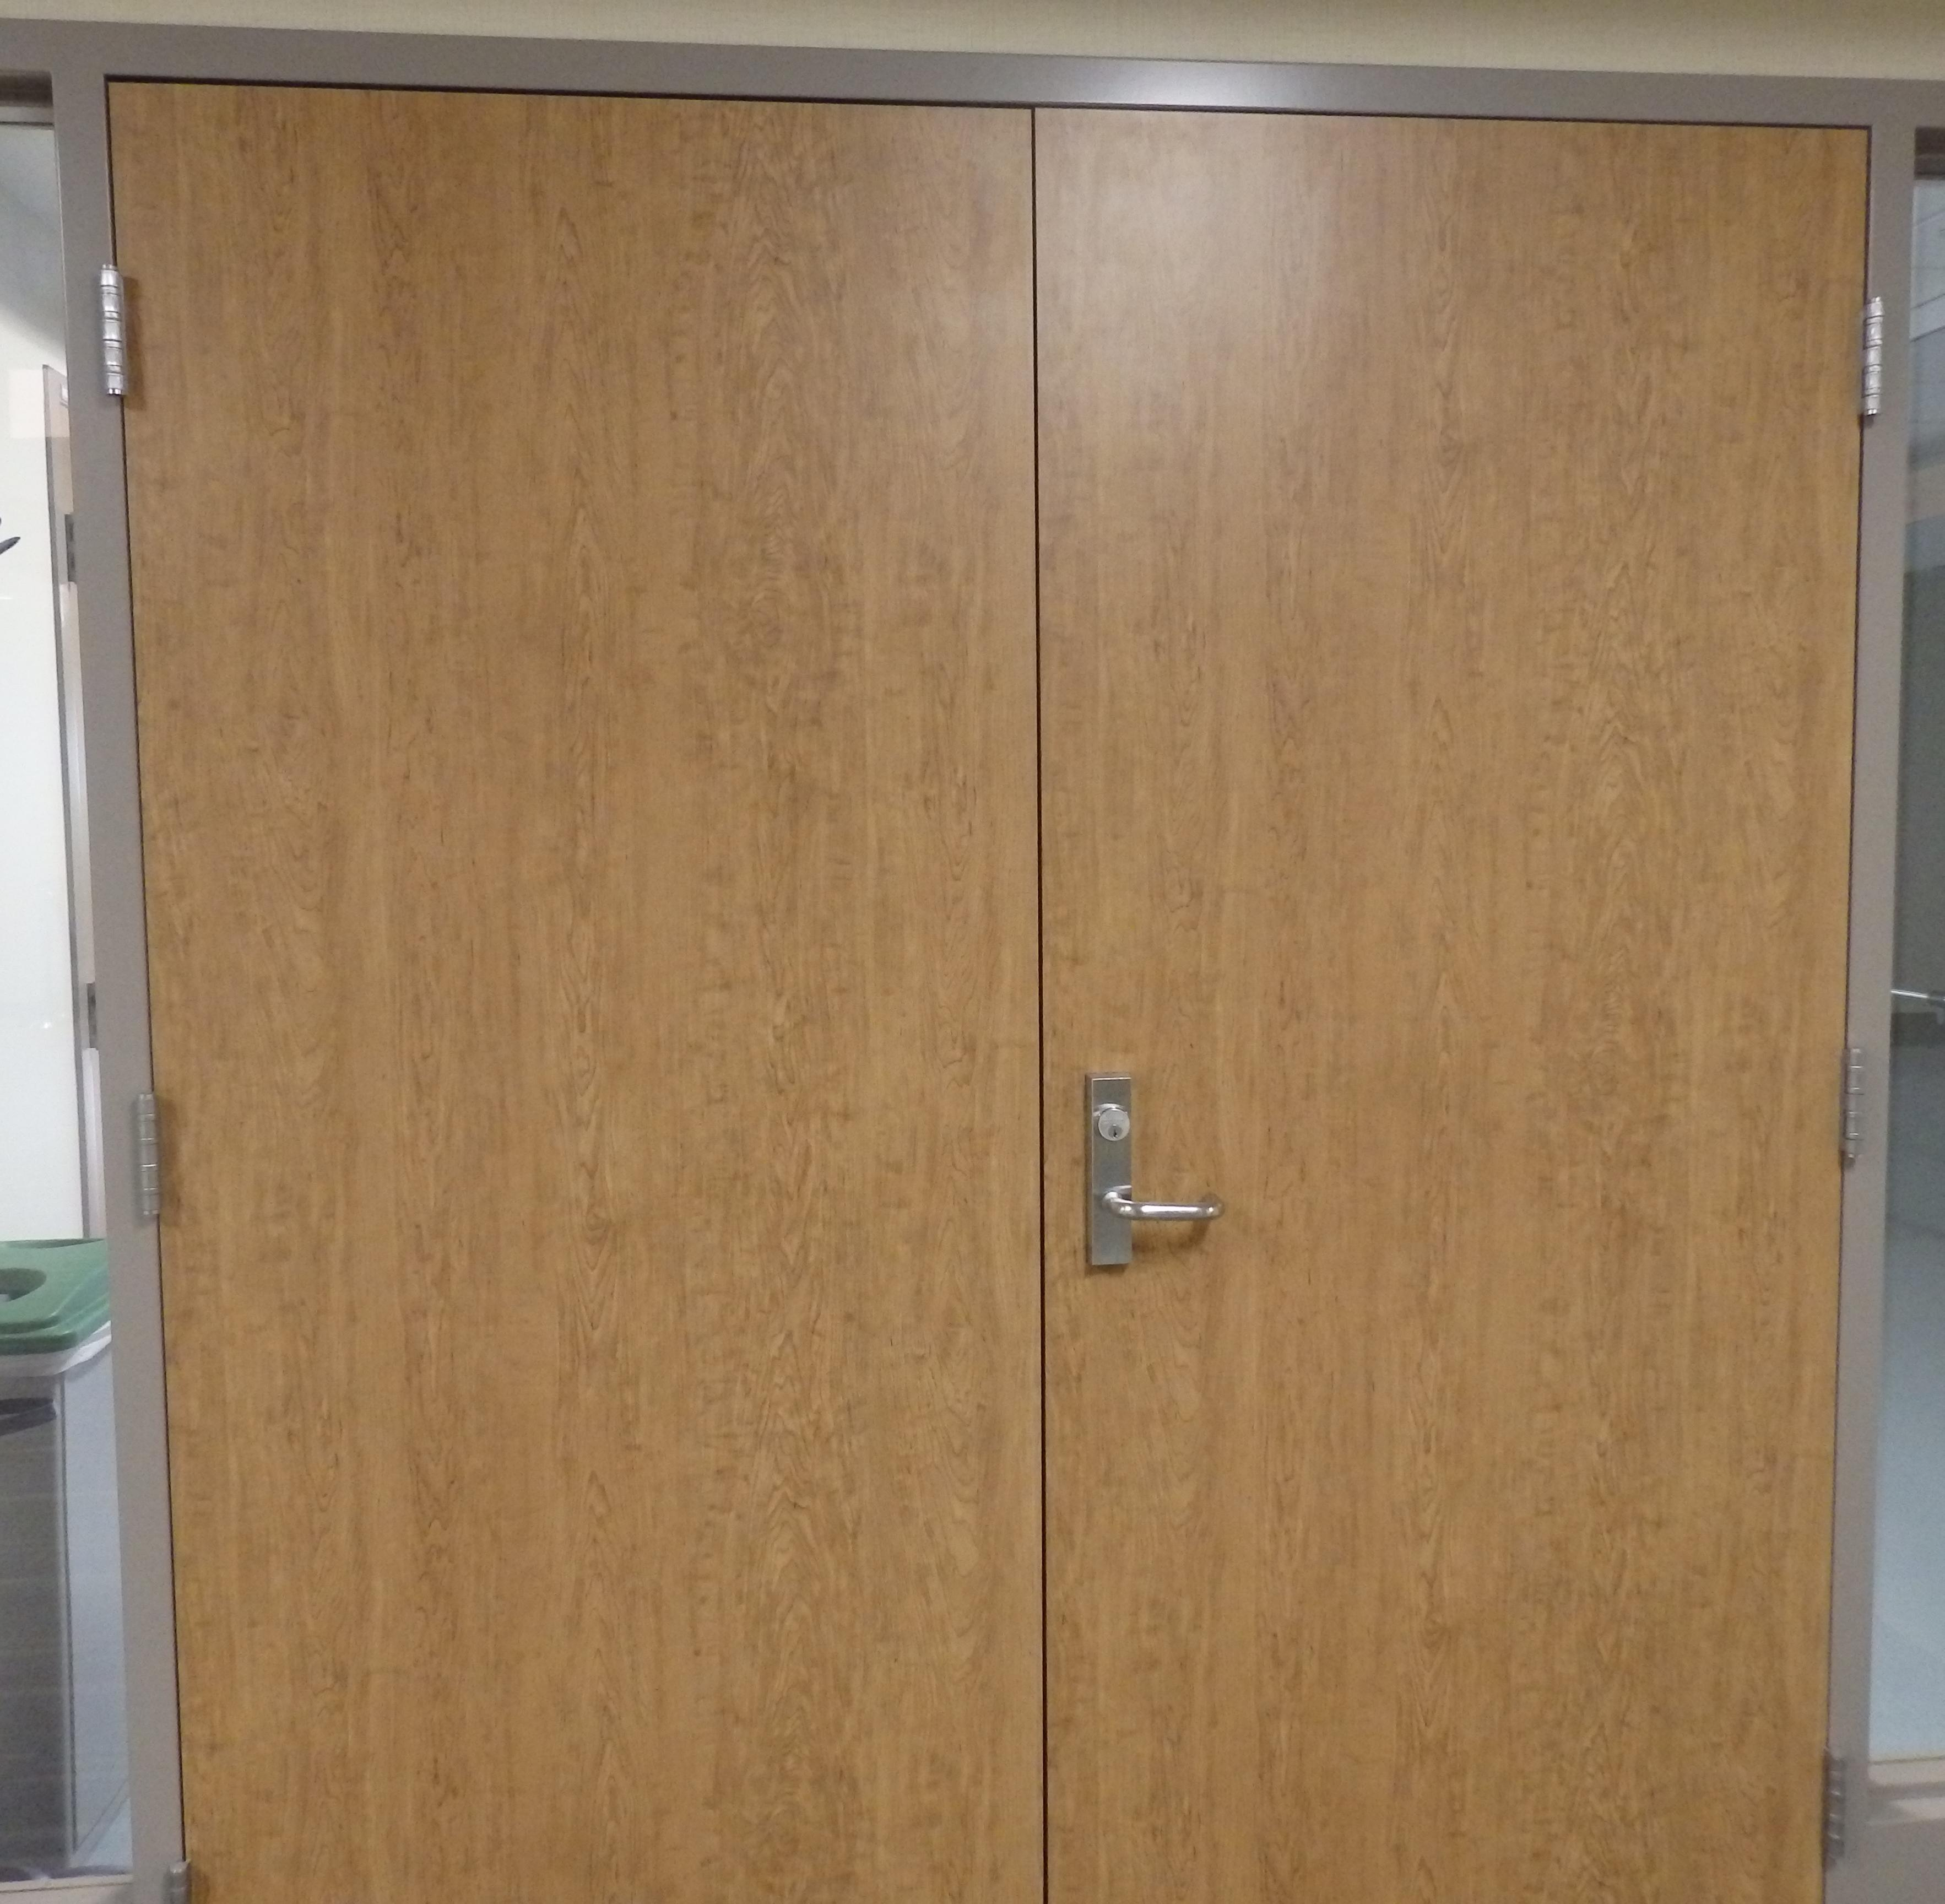door: (91, 54, 1867, 1904)
